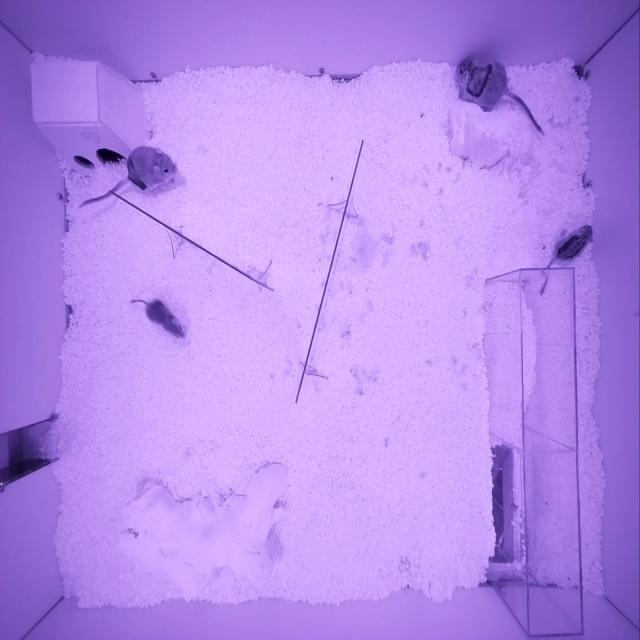adult_back: (126, 146, 179, 191)
adult_front: (456, 60, 507, 112)
pup_spotted: (145, 300, 187, 338)
pup_v_stripe: (553, 224, 594, 262)
